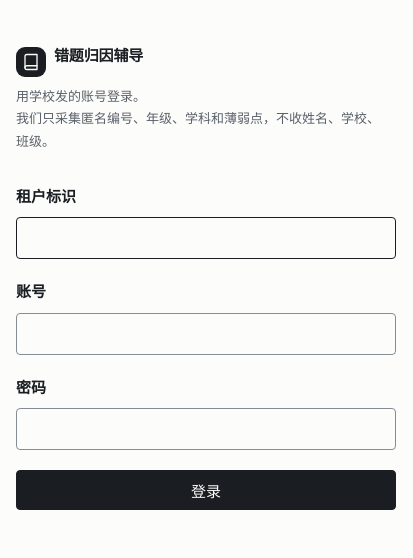
it: 登录页 › T1：登录失败提示统一 › invalid_credentials → 统一文案
This screenshot has width=413, height=558.
In the field labelled "租户标识": (206, 238) x1=16 y1=217 x2=396 y2=259, type "t-a"
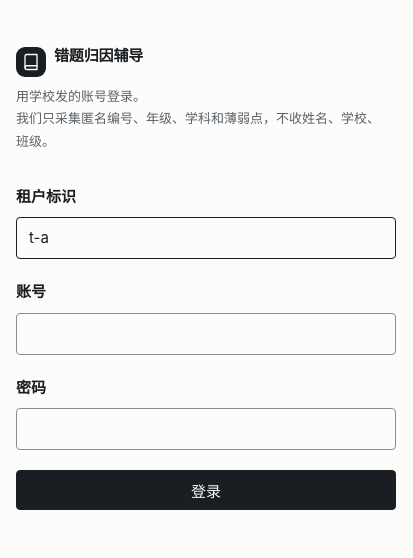
In the field labelled "账号": (206, 334) x1=16 y1=313 x2=396 y2=355, type "alice"
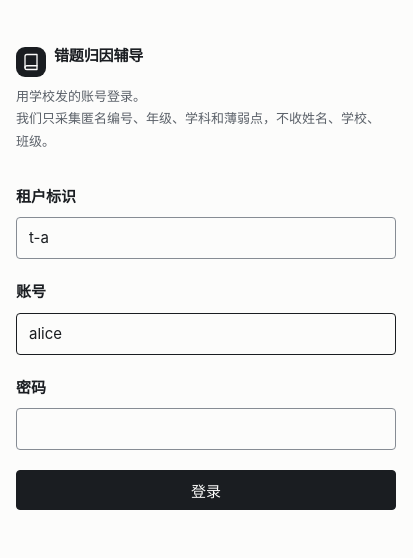
In the password field labelled "密码": (206, 429) x1=16 y1=408 x2=396 y2=450, type "wrongpass"
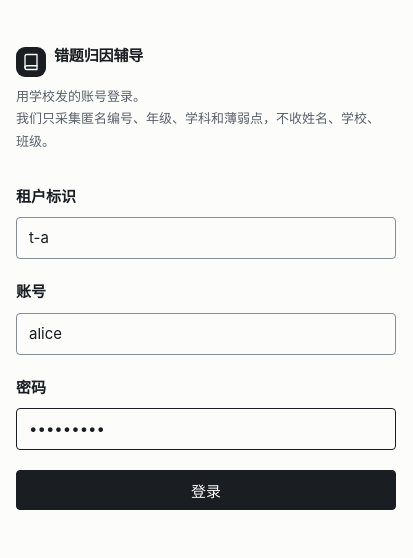
Click the button "登录": (206, 490) x1=16 y1=470 x2=396 y2=510
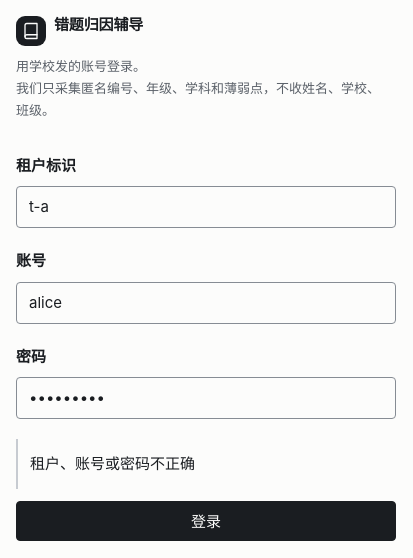
Result: the text "租户、账号或密码不正确" is shown at x1=30 y1=454 x2=195 y2=473
